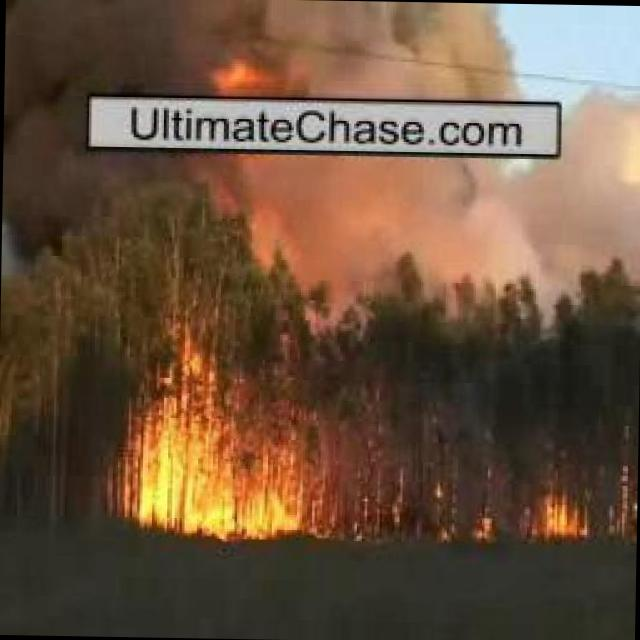Fire: (122, 333, 316, 538), (343, 432, 455, 546), (529, 498, 587, 536), (209, 64, 267, 93), (608, 479, 630, 533), (473, 522, 502, 542)
Smoke: (0, 149, 640, 307), (4, 0, 532, 96)
